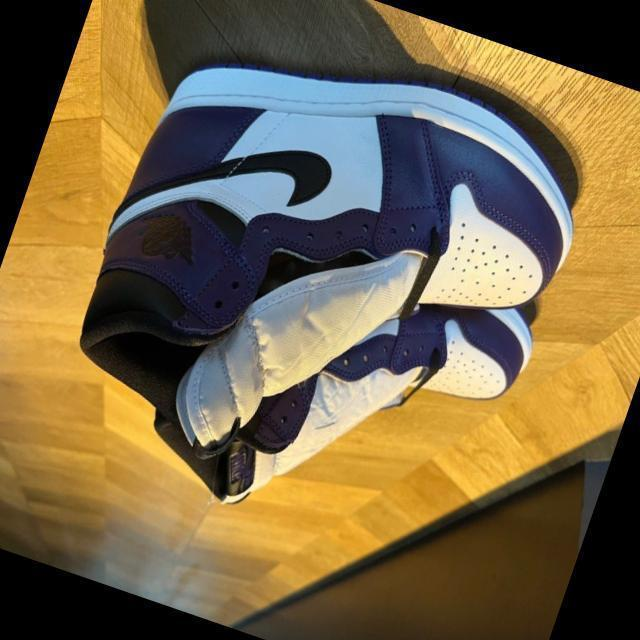nike original jordan 1: (43, 0, 610, 552), (106, 188, 559, 592)
